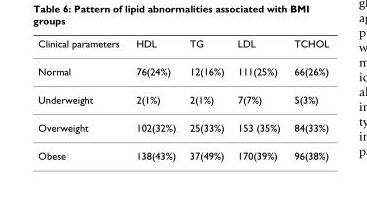table: (37, 37, 328, 161)
table column: (37, 37, 127, 161), (230, 37, 286, 161), (127, 37, 182, 161), (182, 37, 230, 161), (286, 37, 328, 161)
table column header: (37, 37, 328, 57)
table row: (37, 57, 328, 85), (37, 85, 328, 113), (37, 113, 328, 141), (37, 37, 328, 57), (37, 141, 328, 161)
